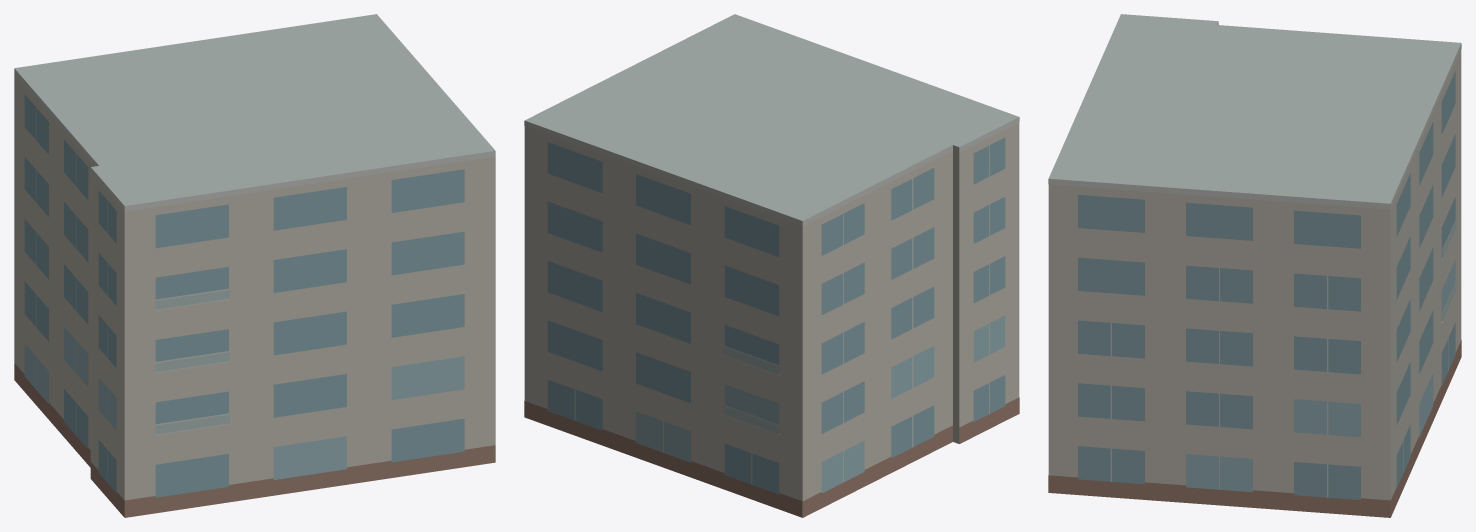
Rendered from survey-upis-32903915.glb.
3 views of the same model, side by side, from view 1: azimuth 30°, elevation 25°; view 2: azimuth 150°, elevation 25°; view 3: azimuth 270°, elevation 25° (orthographic). The views are drawn at different scales.
Visible parts, largest first — view 1: survey-upis-32903915.tmp; view 2: survey-upis-32903915.tmp; view 3: survey-upis-32903915.tmp.
Part boxes in pixels (x1=…): survey-upis-32903915.tmp: x1=14, y1=14, x2=495, y2=517; survey-upis-32903915.tmp: x1=524, y1=14, x2=1019, y2=517; survey-upis-32903915.tmp: x1=1048, y1=14, x2=1461, y2=517.
Bounding box in the file's own units: 17.37 × 13.4 × 15.98.
